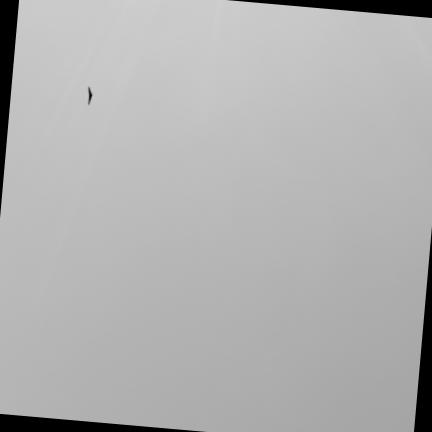Shahed: (87, 87, 92, 104)
